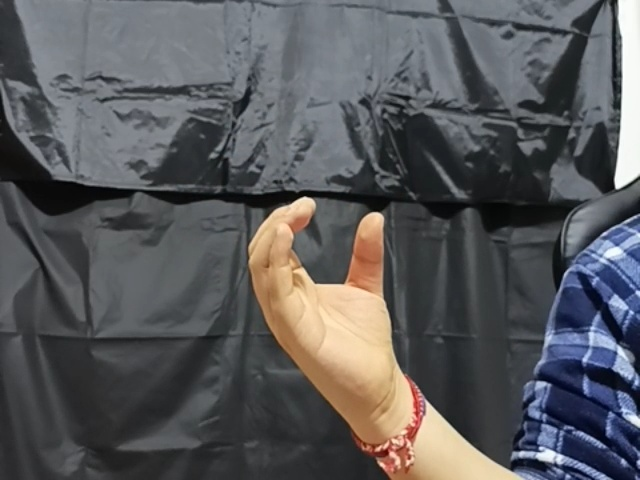C: (243, 192, 420, 394)
